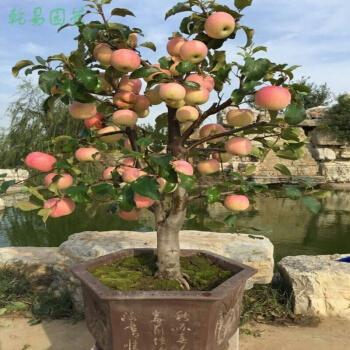apple: (253, 86, 290, 109), (204, 10, 234, 38), (109, 48, 140, 73), (178, 40, 207, 63), (26, 151, 57, 172), (45, 196, 76, 217), (184, 74, 215, 94), (92, 41, 115, 65), (224, 136, 252, 155), (185, 86, 211, 106), (160, 83, 186, 103), (112, 109, 139, 127), (70, 100, 97, 118), (75, 147, 101, 163), (225, 194, 249, 211)
